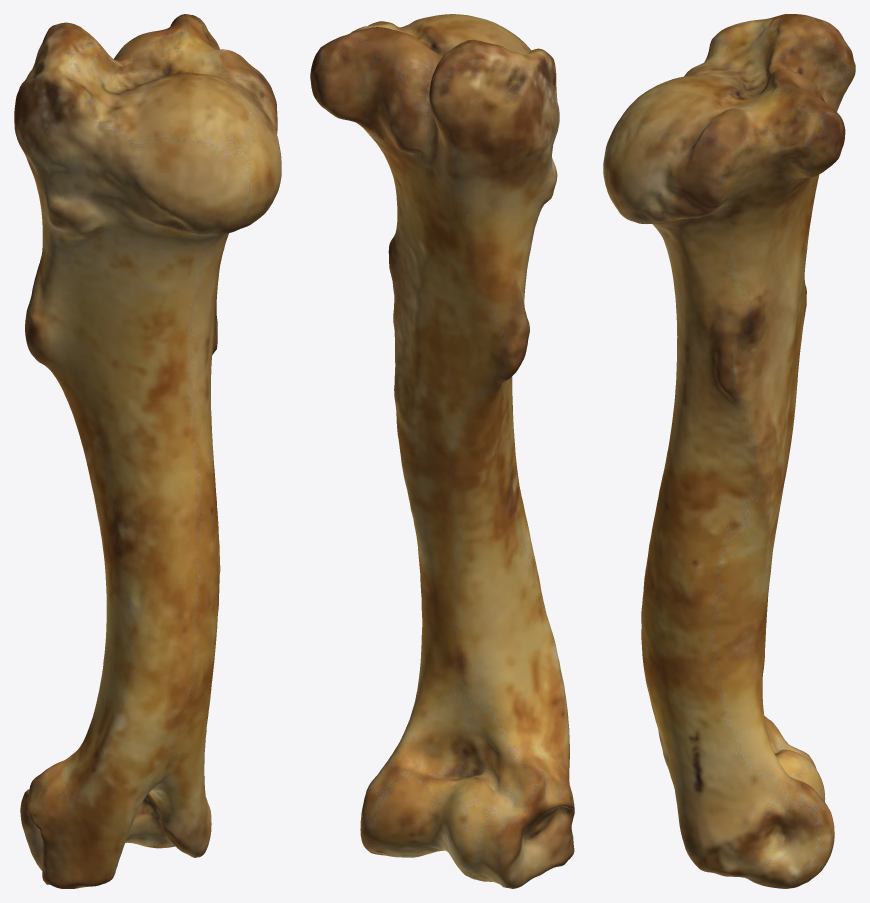
File: humerus.glb
3 views of the same model, side by side, from view 1: azimuth 30°, elevation 25°; view 2: azimuth 150°, elevation 25°; view 3: azimuth 270°, elevation 25° (orthographic).
Visible parts, largest first — view 1: Alpaca Left Humerus; view 2: Alpaca Left Humerus; view 3: Alpaca Left Humerus.
Boxes of the visible parts, x1,y1,x2,y2 form: Alpaca Left Humerus: (14, 14, 281, 888); Alpaca Left Humerus: (310, 14, 574, 888); Alpaca Left Humerus: (603, 14, 855, 888).
Bounding box in the file's own units: 0.0567 × 0.1961 × 0.0539.
1 material, 1 textured.
